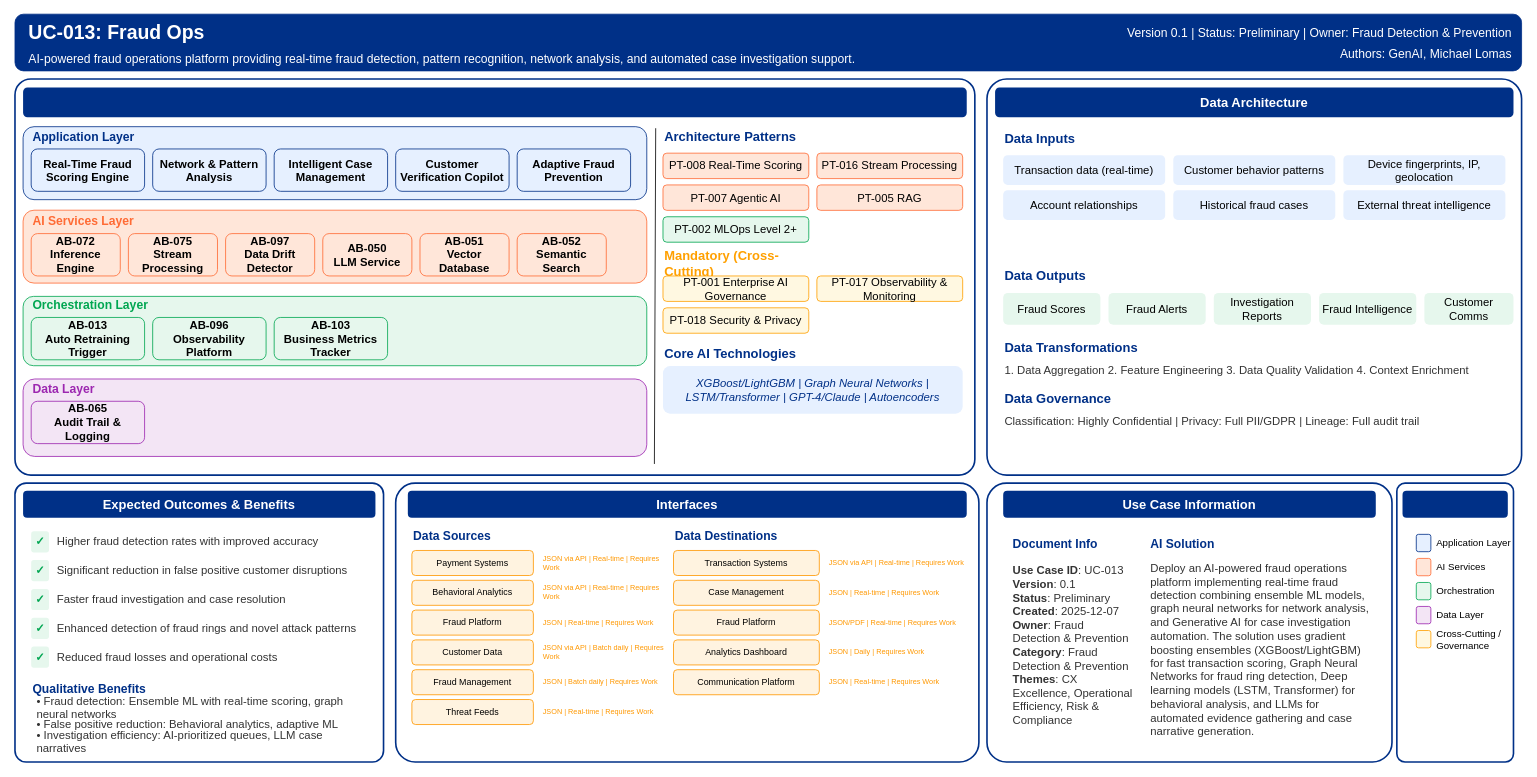
This 1537x777 diagram has some shape labels left out. The shapes that lost their labels are listed below. From the top down, each one's centre as x and y in pixels, then its label:
(x=494, y=102): Solution
(x=1454, y=503): Legend
